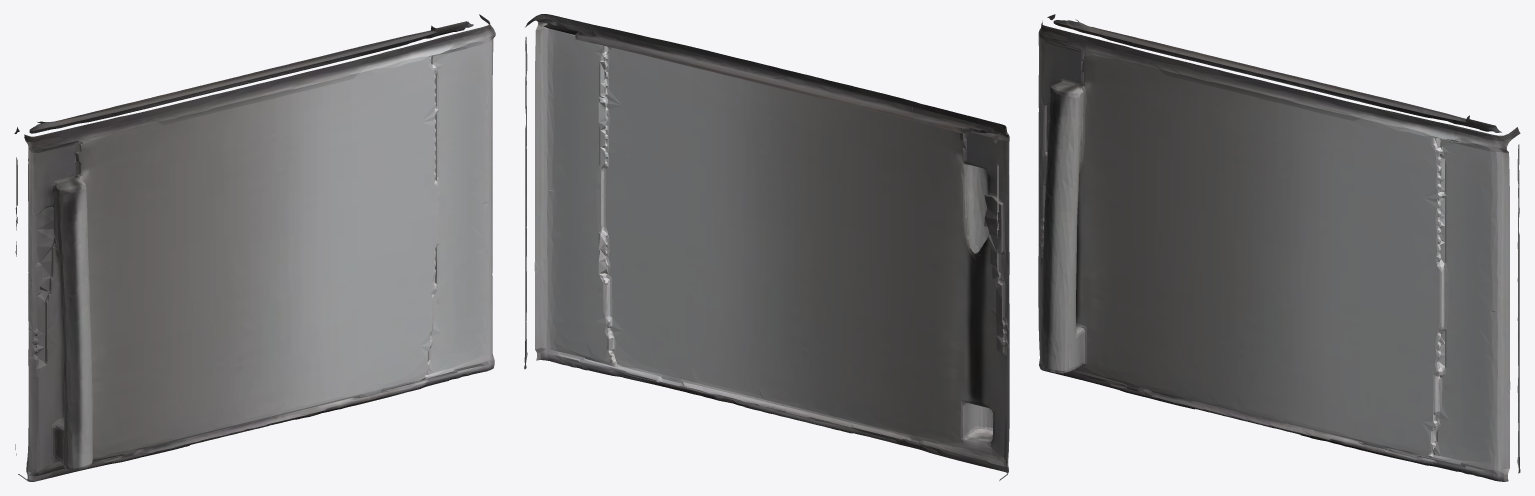
Rendered from door_upper.glb.
3 renders of one model, left to right at view 1: azimuth 30°, elevation 25°; view 2: azimuth 150°, elevation 25°; view 3: azimuth 330°, elevation 25°, orthographic.
Parts seen in each view (by area): view 1: source_surface_0; view 2: source_surface_0; view 3: source_surface_0.
Part boxes in pixels (bbox=[...]): source_surface_0: bbox=[14, 14, 495, 481]; source_surface_0: bbox=[524, 14, 1009, 480]; source_surface_0: bbox=[1038, 14, 1520, 481].
Size of the model in its own units: 1.72 by 1.21 by 0.2186.
Materials: 1 (1 with a texture image).
